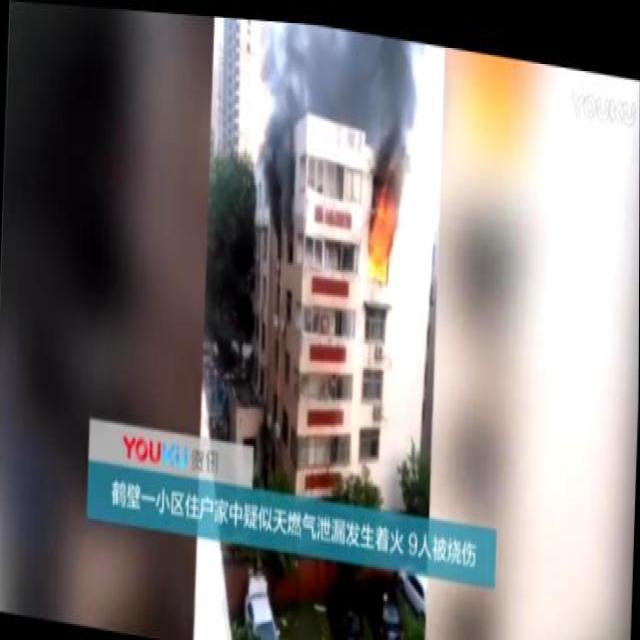fire: (368, 221, 388, 276), (374, 184, 394, 230)
smoke: (264, 17, 414, 120), (261, 95, 293, 211)
